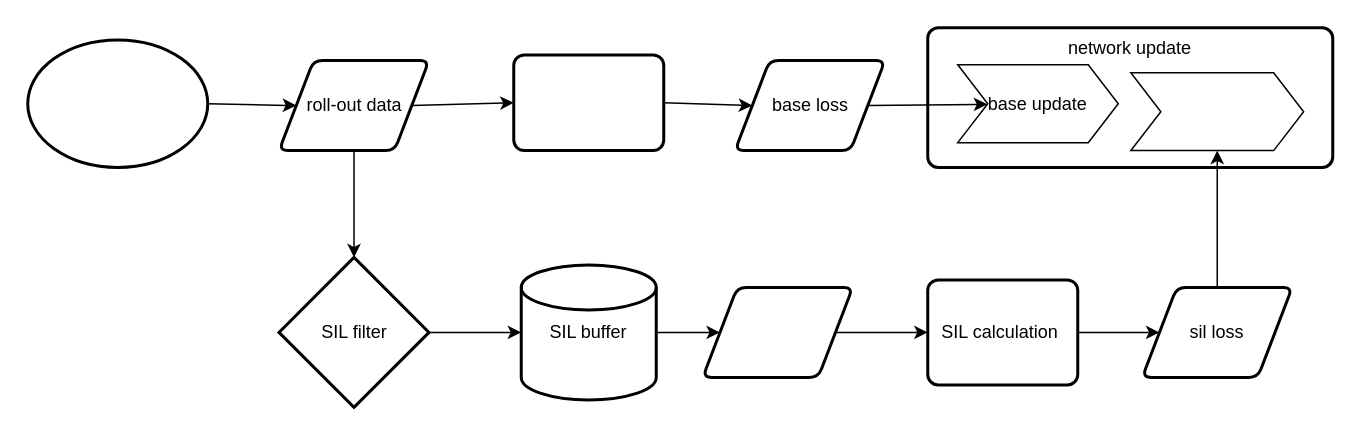
Image size: 1359x435. Some labels were removed from this diagram. The box of each missing label's shape, as (x1, y1, x2, y2) in pixels:
base algorithm calculation: (512, 53, 664, 151)
Environment: (26, 38, 208, 168)
prioritized experience: (700, 285, 854, 378)
SIL update: (1129, 71, 1304, 151)
